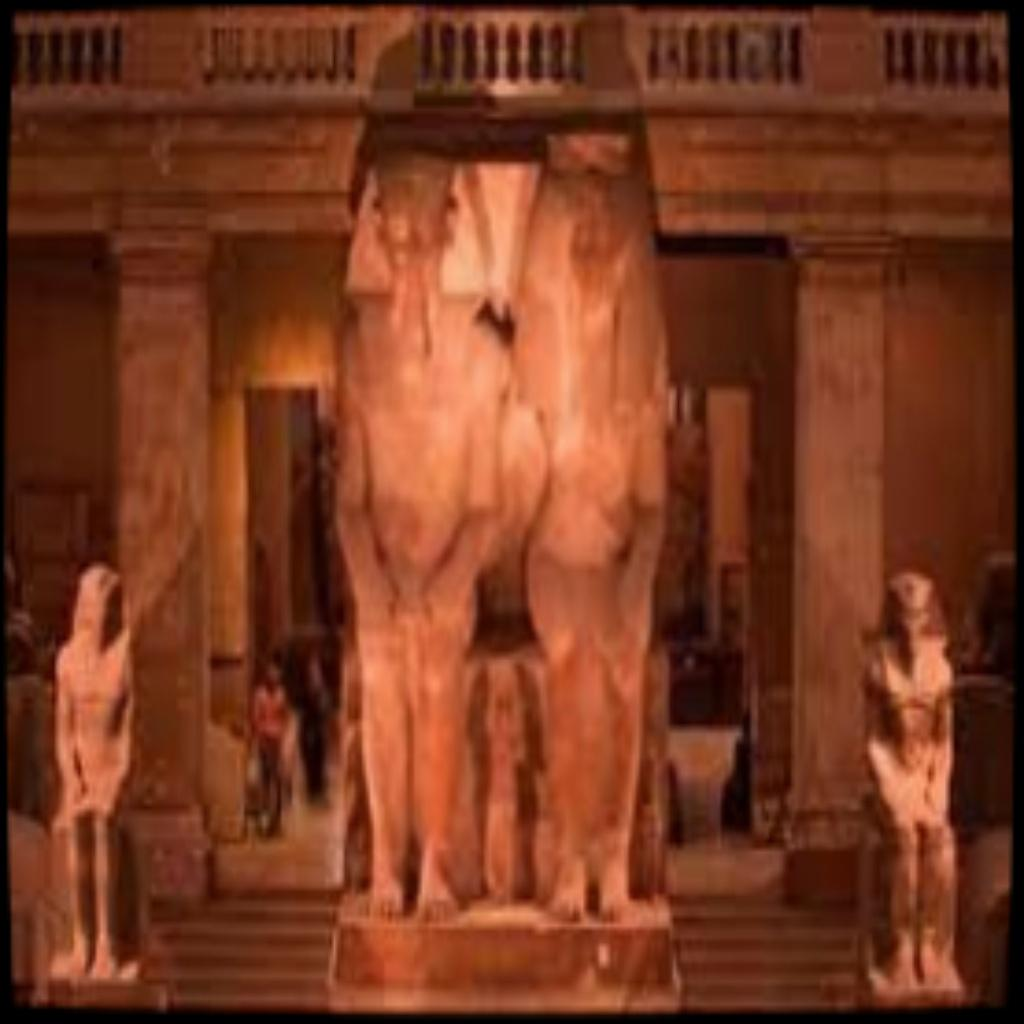Amenhotep III and Tiye: (333, 146, 669, 922)
